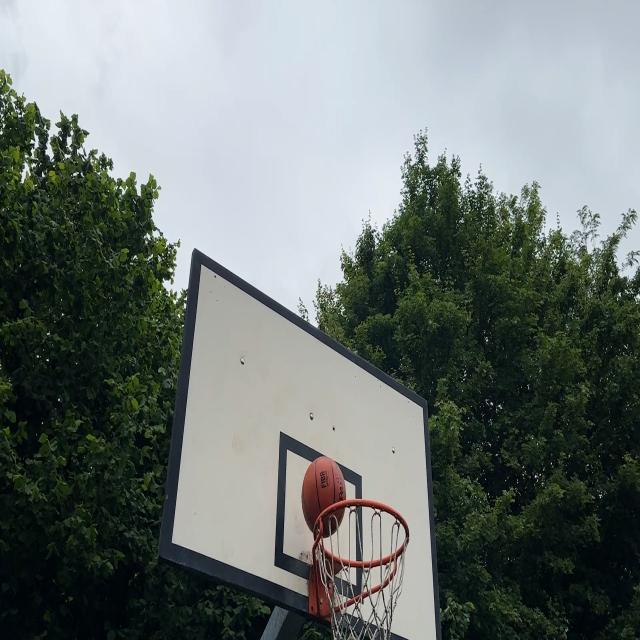rebound_hit: (303, 456, 347, 540)
